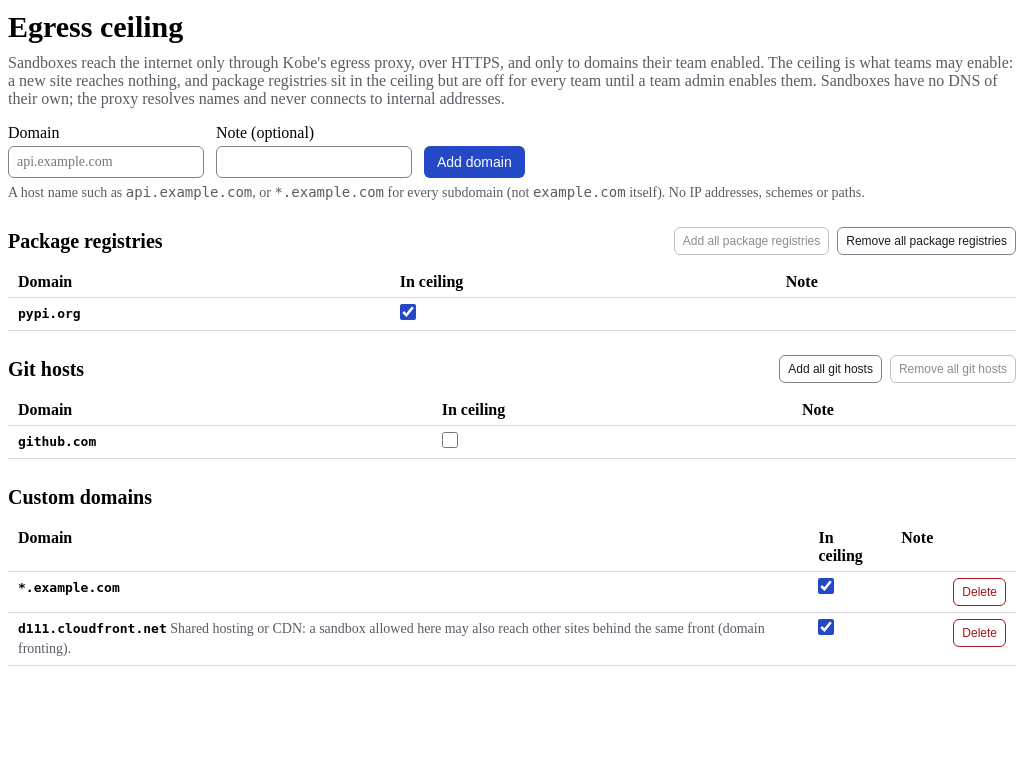
Site egress ceiling › adds a domain and shows the server's validation errors
Type "api.vendor.io" into the field labelled "Domain" at (106, 162), box [8,146,204,178]
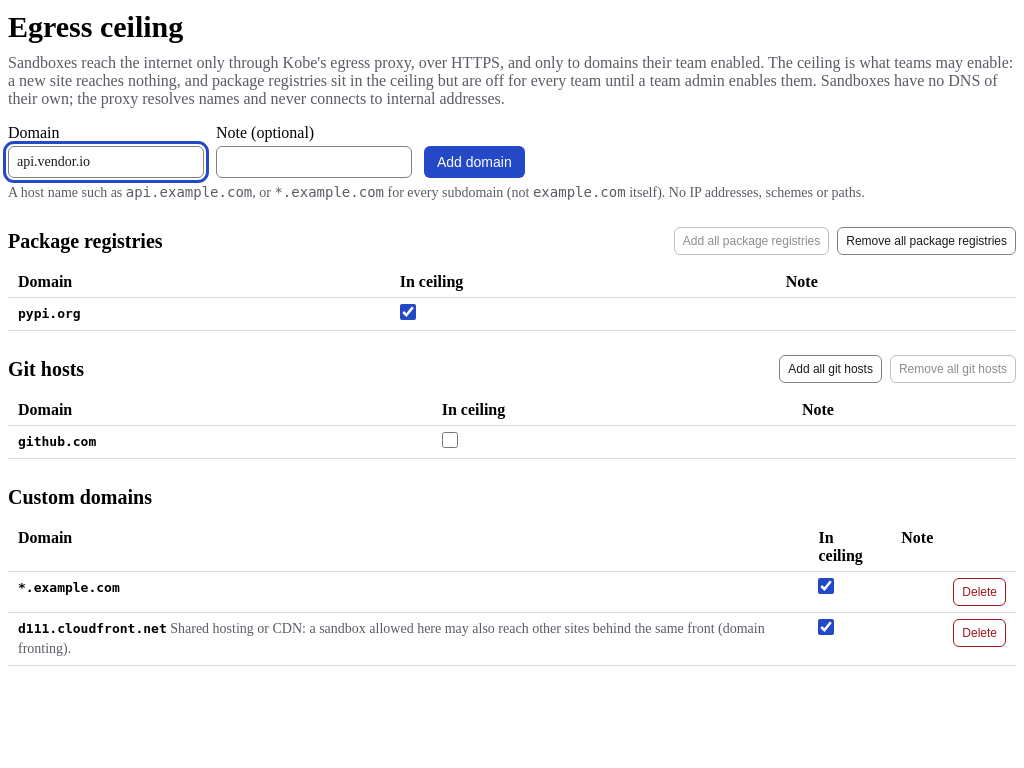
Type "Vendor" into the field labelled "Note (optional)" at (314, 162), box [216,146,412,178]
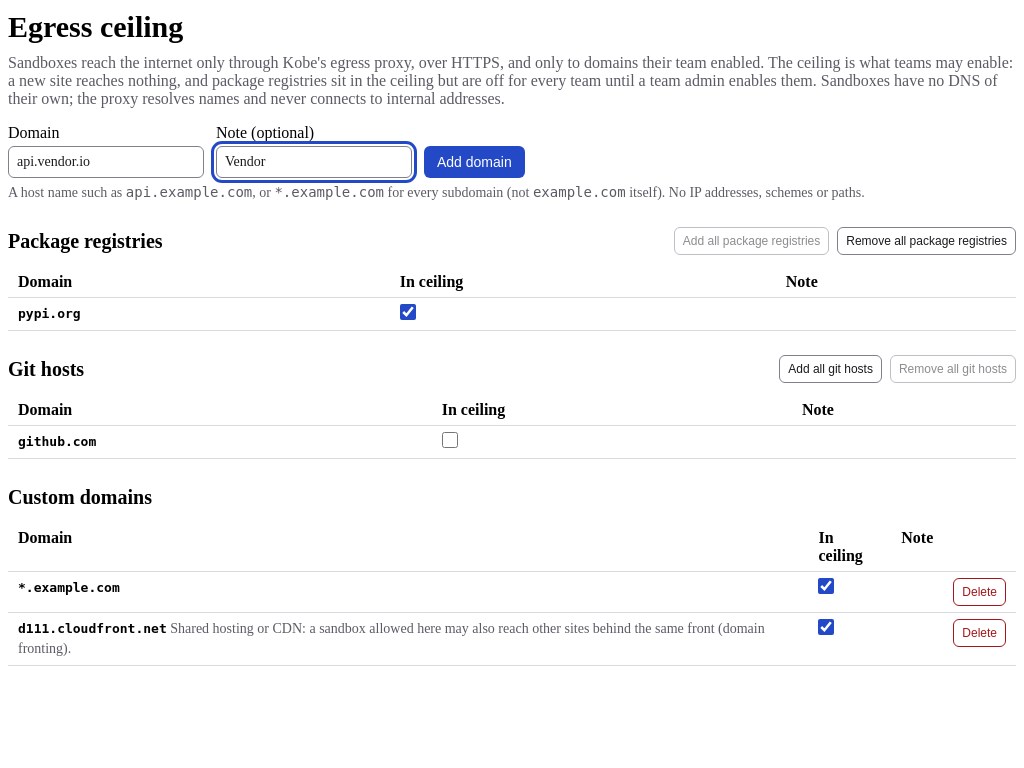
Click the button "Add domain" at (474, 162), box [424,146,525,178]
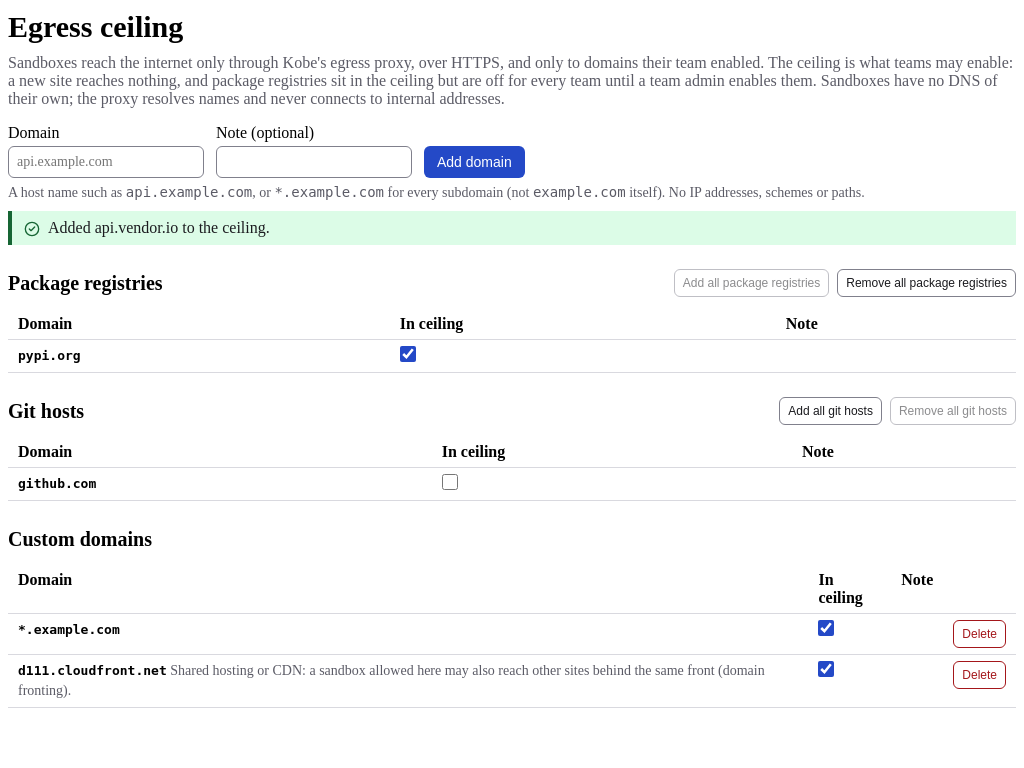
Check: the text "Added api.vendor.io to the ceiling." is shown, box [48,218,270,236]
Type "10.0.0.1" into the field labelled "Domain" at (106, 162), box [8,146,204,178]
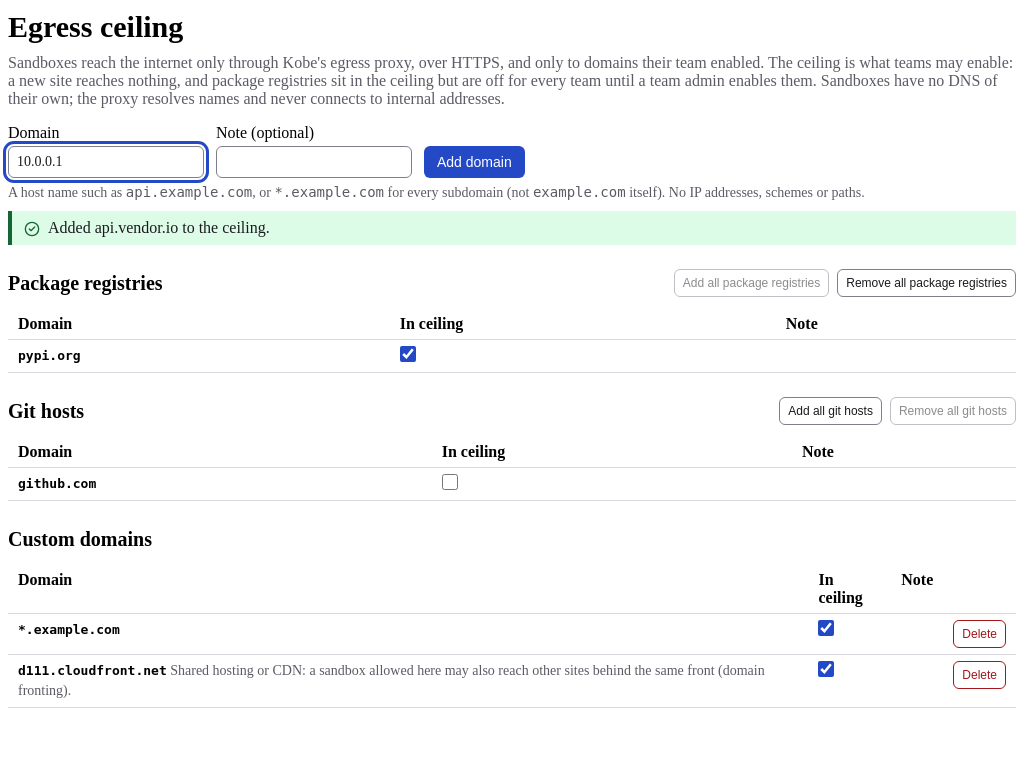
Click the button "Add domain" at (474, 162), box [424,146,525,178]
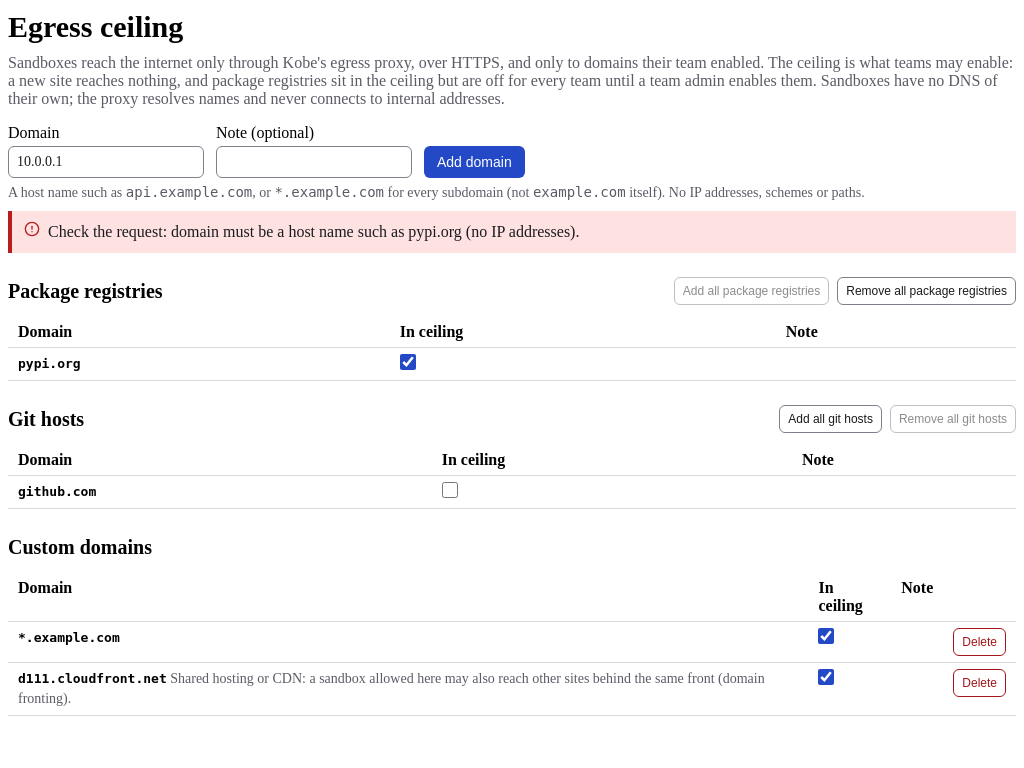
Check: the message shows "no IP addresses", box [48,222,580,240]
